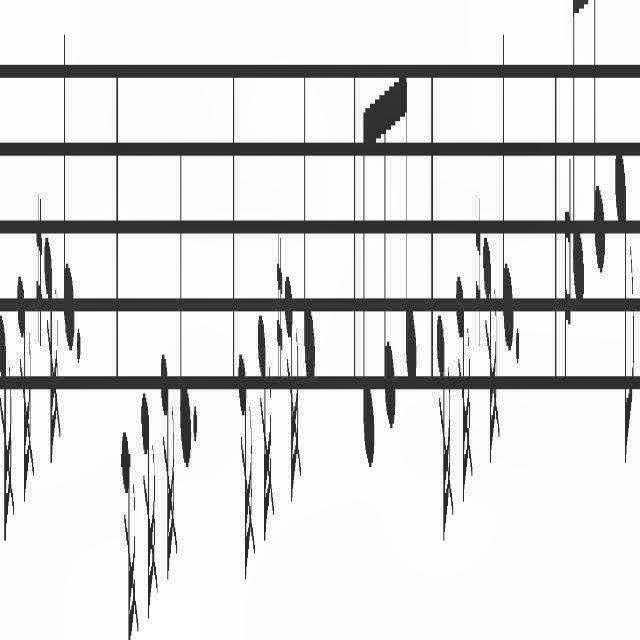Diez: (473, 183, 482, 349), (276, 229, 284, 379), (36, 190, 42, 352)
Eighth-note: (613, 139, 635, 469), (402, 49, 418, 399), (362, 74, 374, 482), (590, 0, 606, 290), (382, 52, 394, 436), (571, 0, 585, 320)
Quarter-note: (302, 53, 316, 399), (178, 137, 192, 480), (61, 20, 75, 360), (501, 24, 515, 356)
